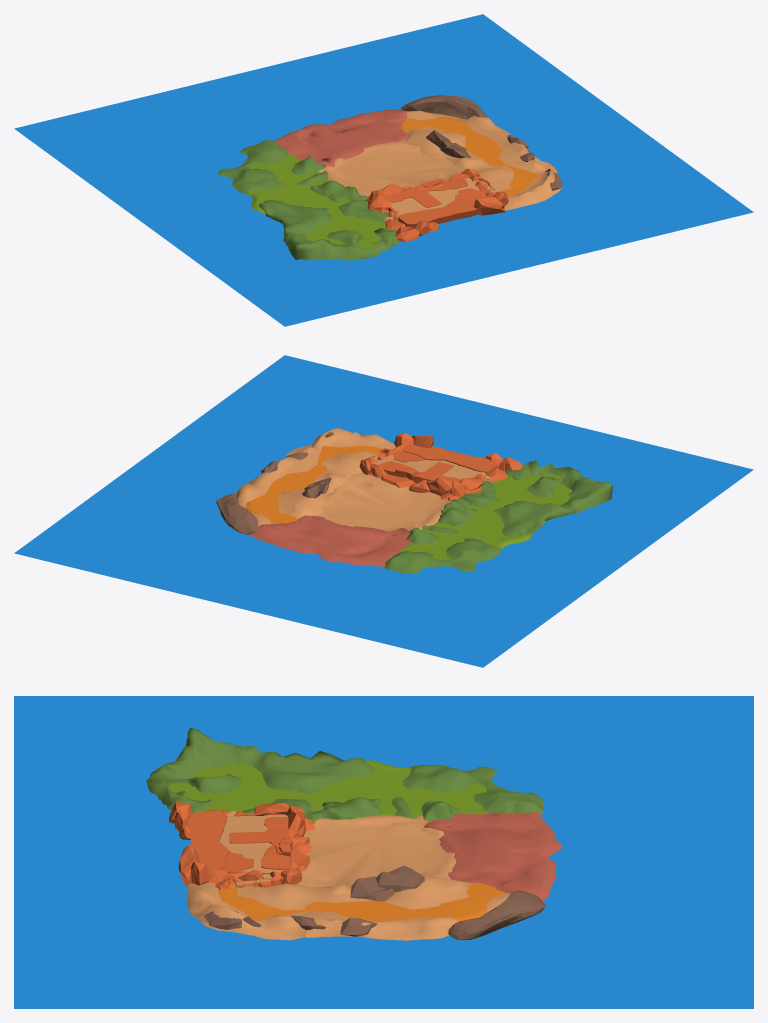
The model's file is Ground.fbx.
3 renders of one model, top to bottom at view 1: azimuth 30°, elevation 25°; view 2: azimuth 150°, elevation 25°; view 3: azimuth 270°, elevation 25°, orthographic. The views are drawn at different scales.
Parts seen in each view (by area): view 1: Sea, Ground Grass_01, Desert Ground_02, Lalibela_Floor, Mali_Road, Tunisia Ground_Base, Ground Grass Floor_01, Desert Ground_01, Ground Grass Floor_02, Icosphere.004; view 2: Sea, Ground Grass_01, Desert Ground_02, Lalibela_Floor, Mali_Road, Tunisia Ground_Base, Ground Grass Floor_01, Desert Ground_01, Ground Grass Floor_02, Icosphere.004; view 3: Sea, Ground Grass_01, Desert Ground_02, Lalibela_Floor, Mali_Road, Tunisia Ground_Base, Desert Ground_01, Ground Grass Floor_01, Ground Grass Floor_02, Icosphere.004, Icosphere.002, Icosphere.003 (+1 smaller).
Boxes of the visible parts, <box> form: Sea: <box>14,14,753,326</box>; Ground Grass_01: <box>218,140,399,260</box>; Desert Ground_02: <box>405,110,561,210</box>; Lalibela_Floor: <box>318,139,464,197</box>; Mali_Road: <box>273,109,407,166</box>; Tunisia Ground_Base: <box>385,177,487,227</box>; Ground Grass Floor_01: <box>246,153,331,213</box>; Desert Ground_01: <box>401,117,541,196</box>; Ground Grass Floor_02: <box>305,200,389,248</box>; Icosphere.004: <box>401,95,486,119</box>; Sea: <box>14,355,753,667</box>; Ground Grass_01: <box>384,460,612,573</box>; Desert Ground_02: <box>236,428,396,526</box>; Lalibela_Floor: <box>313,472,451,531</box>; Mali_Road: <box>249,515,412,567</box>; Tunisia Ground_Base: <box>374,444,497,483</box>; Ground Grass Floor_01: <box>397,510,532,560</box>; Desert Ground_01: <box>246,445,381,523</box>; Ground Grass Floor_02: <box>466,472,572,514</box>; Icosphere.004: <box>216,493,258,534</box>; Sea: <box>14,696,753,1008</box>; Ground Grass_01: <box>146,728,543,821</box>; Desert Ground_02: <box>187,875,510,940</box>; Lalibela_Floor: <box>296,815,455,887</box>; Mali_Road: <box>424,812,562,901</box>; Tunisia Ground_Base: <box>187,811,292,874</box>; Desert Ground_01: <box>217,883,507,921</box>; Ground Grass Floor_01: <box>310,760,490,818</box>; Ground Grass Floor_02: <box>168,763,328,812</box>; Icosphere.004: <box>448,890,545,940</box>; Icosphere.002: <box>375,865,424,892</box>; Icosphere.003: <box>350,876,394,901</box>.
Bounding box in the file's own units: 28973 × 1687 × 28973.
